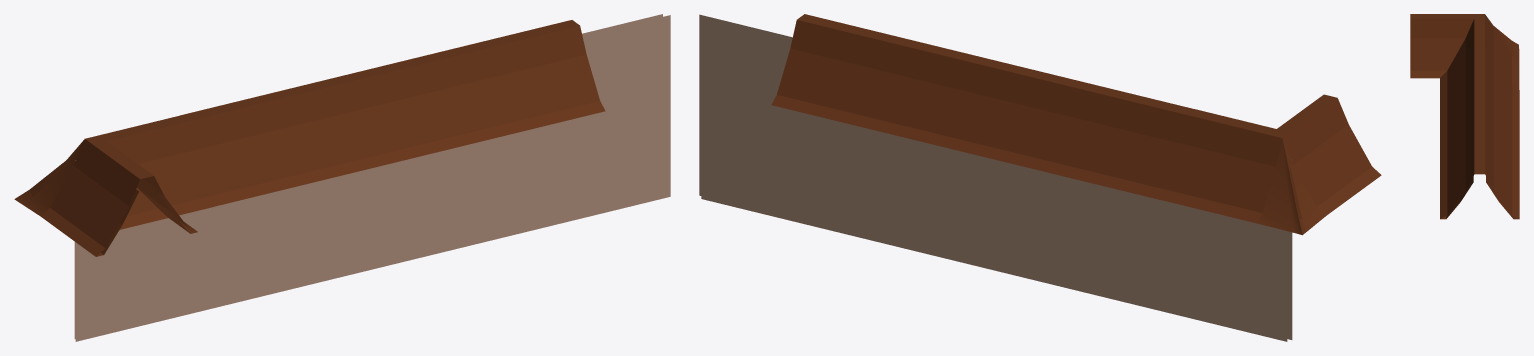
File: Pared_Fueta_esquina.fbx
The picture shows the model from 3 angles, left to right: view 1: azimuth 30°, elevation 25°; view 2: azimuth 150°, elevation 25°; view 3: azimuth 270°, elevation 25°; orthographic projection. The views are drawn at different scales.
Parts seen in each view (by area): view 1: polySurface248; view 2: polySurface248; view 3: polySurface248.
Part boxes in pixels (x1,y1,x2,y2): polySurface248: (14,14,670,341); polySurface248: (699,14,1381,341); polySurface248: (1410,14,1519,219).
Size of the model in its own units: 123 by 37.39 by 27.38.
